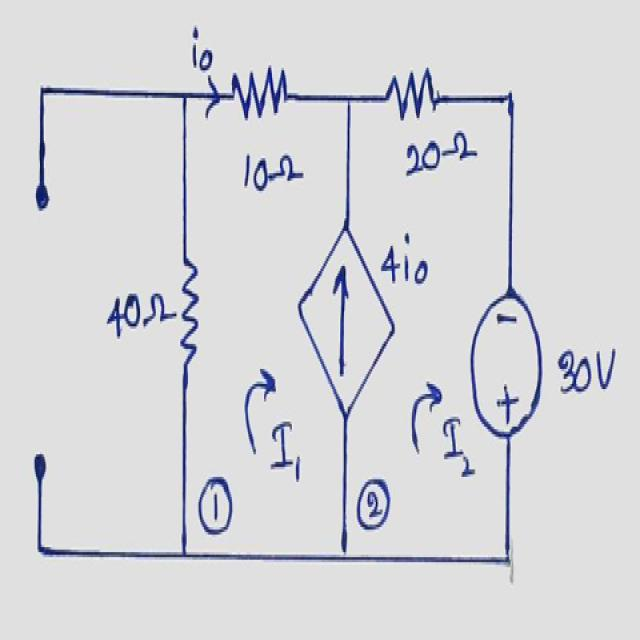dependant_current: (294, 216, 398, 424)
resistor: (172, 243, 212, 374), (380, 55, 441, 138), (228, 56, 293, 128)
voltage_source: (465, 281, 548, 449)
